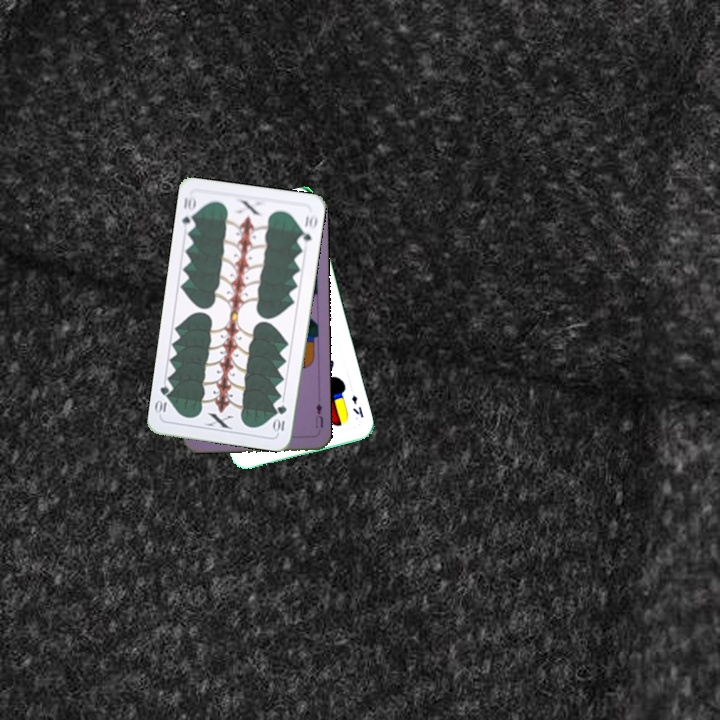EK: (347, 392, 366, 420)
EU: (311, 399, 326, 430)
G10: (178, 192, 199, 233), (271, 401, 289, 435)
